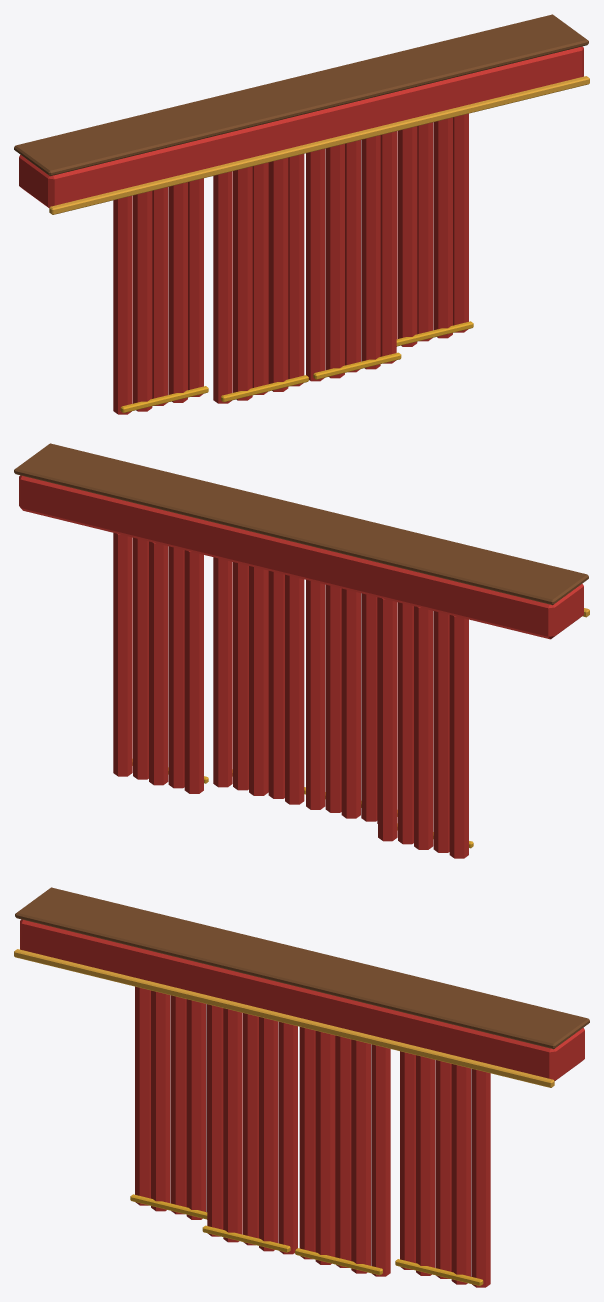
Rendered from curtain.glb.
The picture shows the model from 3 angles, top to bottom: view 1: azimuth 30°, elevation 25°; view 2: azimuth 150°, elevation 25°; view 3: azimuth 330°, elevation 25°; orthographic projection.
Parts seen in each view (by area): view 1: curtain, part_curtain_l_inner, part_curtain_r_inner, part_curtain_l_outer, part_curtain_r_outer; view 2: curtain, part_curtain_r_outer, part_curtain_l_outer, part_curtain_r_inner, part_curtain_l_inner; view 3: curtain, part_curtain_r_inner, part_curtain_l_inner, part_curtain_r_outer, part_curtain_l_outer.
Part boxes in pixels (x1,y1,x2,y2): curtain: (14,14,589,214); part_curtain_l_inner: (213,154,308,403); part_curtain_r_inner: (306,131,401,381); part_curtain_l_outer: (113,178,208,414); part_curtain_r_outer: (396,113,473,346); curtain: (14,443,589,639); part_curtain_r_outer: (113,533,208,793); part_curtain_l_outer: (378,597,473,858); part_curtain_r_inner: (213,557,305,804); part_curtain_l_inner: (306,580,397,823); curtain: (14,887,589,1087); part_curtain_r_inner: (295,1027,390,1276); part_curtain_l_inner: (202,1004,297,1254); part_curtain_r_outer: (395,1051,490,1287); part_curtain_l_outer: (130,986,207,1219).
Size of the model in its own units: 5.14 by 2.59 by 0.63.
